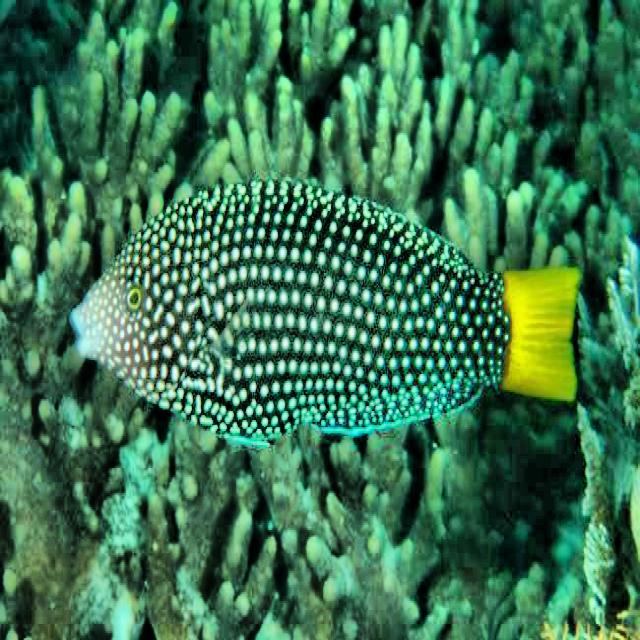fish: (70, 174, 585, 450)
